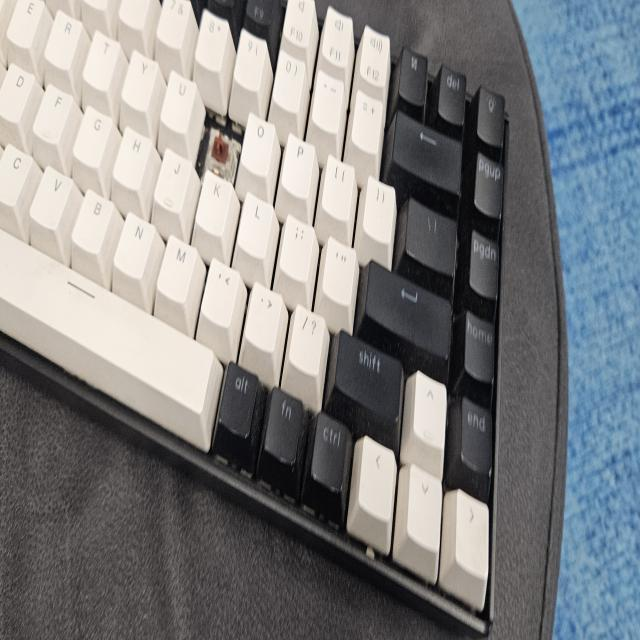C: (210, 121, 233, 169)
